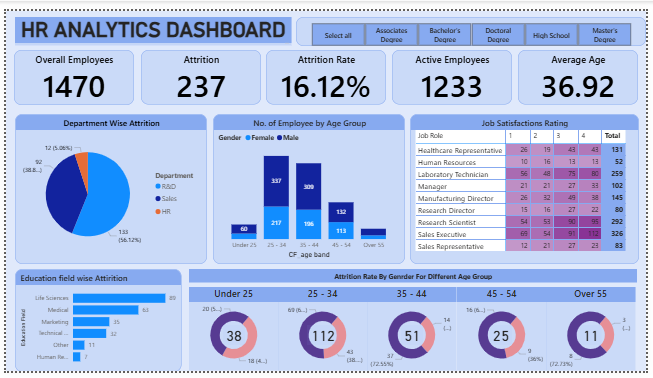

Layout of this report page (visuals, bound fields, positions):
{"tool":"powerbi","page":{"name":"Page 1","canvas":[1280,720],"ordinal":0},"visuals":[{"type":"card","title":"Overall Employees","fields":{"Values":["Sum(HR data.Employee Count)"]},"box":[16.8,79,240,110],"z":0},{"type":"card","title":"Average Age","fields":{"Values":["Avg(HR data.Age)"]},"box":[1024.7,79,240.2,109.2],"z":1000},{"type":"card","title":"Active Employees","fields":{"Values":["HR data.Active Employees"]},"box":[771,79,240.2,109.2],"z":2000},{"type":"card","title":"Attrition Rate","fields":{"Values":["HR data.Attrition Rate"]},"box":[519.1,79,240.2,109.2],"z":3000},{"type":"card","title":"Attrition","fields":{"Values":["Sum(HR data.Attrition count)"]},"box":[270.4,79,240.2,109.2],"z":4000},{"type":"pieChart","title":"Department Wise Attrition","fields":{"Category":["HR data.Department"],"Y":["Sum(HR data.Attrition count)"]},"box":[17.1,205.7,384.3,300],"z":5000},{"type":"columnChart","title":"No. of Employee by Age Group","fields":{"Category":["HR data.CF_age band"],"Y":["Sum(HR data.Employee Count)"],"Series":["HR data.Gender"]},"box":[413.3,205.9,384.5,299.5],"z":6000},{"type":"pivotTable","title":"Job Satisfactions Rating","fields":{"Rows":["HR data.Job Role"],"Columns":["HR data.Job Satisfaction"],"Values":["Sum(HR data.Employee Count)"]},"box":[807.8,205.9,457.9,299.5],"z":7000},{"type":"barChart","title":"Education field wise Attirition","fields":{"Category":["HR data.Education Field"],"Y":["Sum(HR data.Attrition count)"]},"box":[17.1,515.7,332.9,205.7],"z":8000},{"type":"donutChart","title":"Under 25","fields":{"Category":["HR data.Gender"],"Y":["Sum(HR data.Attrition count)"],"Series":["HR data.CF_age band"]},"box":[365.8,553,179,167],"z":9000},{"type":"textbox","box":[365.7,515.7,896,27.1],"z":10000},{"type":"donutChart","title":"Over 55","fields":{"Category":["HR data.Gender"],"Y":["Sum(HR data.Attrition count)"],"Series":["HR data.CF_age band"]},"box":[1080,553,179,167],"z":11000},{"type":"donutChart","title":"45 - 54","fields":{"Category":["HR data.Gender"],"Y":["Sum(HR data.Attrition count)"],"Series":["HR data.CF_age band"]},"box":[901.4,553,179,167],"z":12000},{"type":"donutChart","title":"25 - 34","fields":{"Category":["HR data.Gender"],"Y":["Sum(HR data.Attrition count)"],"Series":["HR data.CF_age band"]},"box":[544.3,553,179,167],"z":13000},{"type":"donutChart","title":"35 - 44","fields":{"Category":["HR data.Gender"],"Y":["Sum(HR data.Attrition count)"],"Series":["HR data.CF_age band"]},"box":[722.9,553,179,167],"z":14000},{"type":"card","fields":{"Values":["Sum(HR data.Attrition count)"]},"box":[433.8,627.5,43.8,40],"z":15000},{"type":"card","fields":{"Values":["Sum(HR data.Attrition count)"]},"box":[1148.6,627.1,42.9,40],"z":16000},{"type":"card","fields":{"Values":["Sum(HR data.Attrition count)"]},"box":[968.6,627.1,44.3,40],"z":17000},{"type":"card","fields":{"Values":["Sum(HR data.Attrition count)"]},"box":[790,627.5,43.8,40],"z":18000},{"type":"card","fields":{"Values":["Sum(HR data.Attrition count)"]},"box":[601.4,627.1,64.3,40],"z":19000},{"type":"textbox","title":"HR ANALYTICS DASHBOARD","box":[17.1,11.4,552.9,57.1],"z":20000},{"type":"slicer","fields":{"Values":["HR data.Education"]},"box":[580.3,11.5,699.8,57.6],"z":21000}]}

Visuals, with their boxes in screenshot pixels (x1, y1, x2, y2), scaled from the page's 1280x720 canvas onto the 653x378 screenshot:
"Overall Employees" card: [9,41,131,99]
"Average Age" card: [523,41,645,99]
"Active Employees" card: [393,41,516,99]
"Attrition Rate" card: [265,41,387,99]
"Attrition" card: [138,41,260,99]
"Department Wise Attrition" pieChart: [9,108,205,265]
"No. of Employee by Age Group" columnChart: [211,108,407,265]
"Job Satisfactions Rating" pivotTable: [412,108,646,265]
"Education field wise Attirition" barChart: [9,271,179,377]
"Under 25" donutChart: [187,290,278,377]
textbox: [187,271,644,285]
"Over 55" donutChart: [551,290,642,377]
"45 - 54" donutChart: [460,290,551,377]
"25 - 34" donutChart: [278,290,369,377]
"35 - 44" donutChart: [369,290,460,377]
card - Sum(HR data.Attrition count): [221,329,244,350]
card - Sum(HR data.Attrition count): [586,329,608,350]
card - Sum(HR data.Attrition count): [494,329,517,350]
card - Sum(HR data.Attrition count): [403,329,425,350]
card - Sum(HR data.Attrition count): [307,329,340,350]
"HR ANALYTICS DASHBOARD" textbox: [9,6,291,36]
slicer - HR data.Education: [296,6,652,36]
